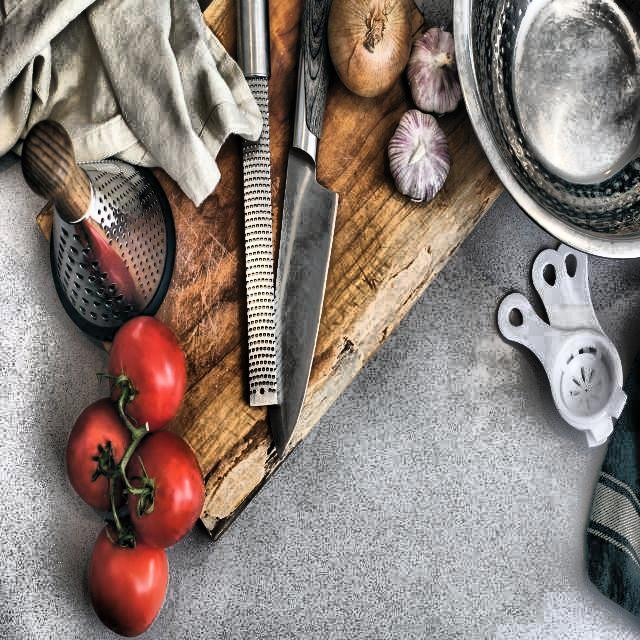knife: (266, 0, 354, 462)
